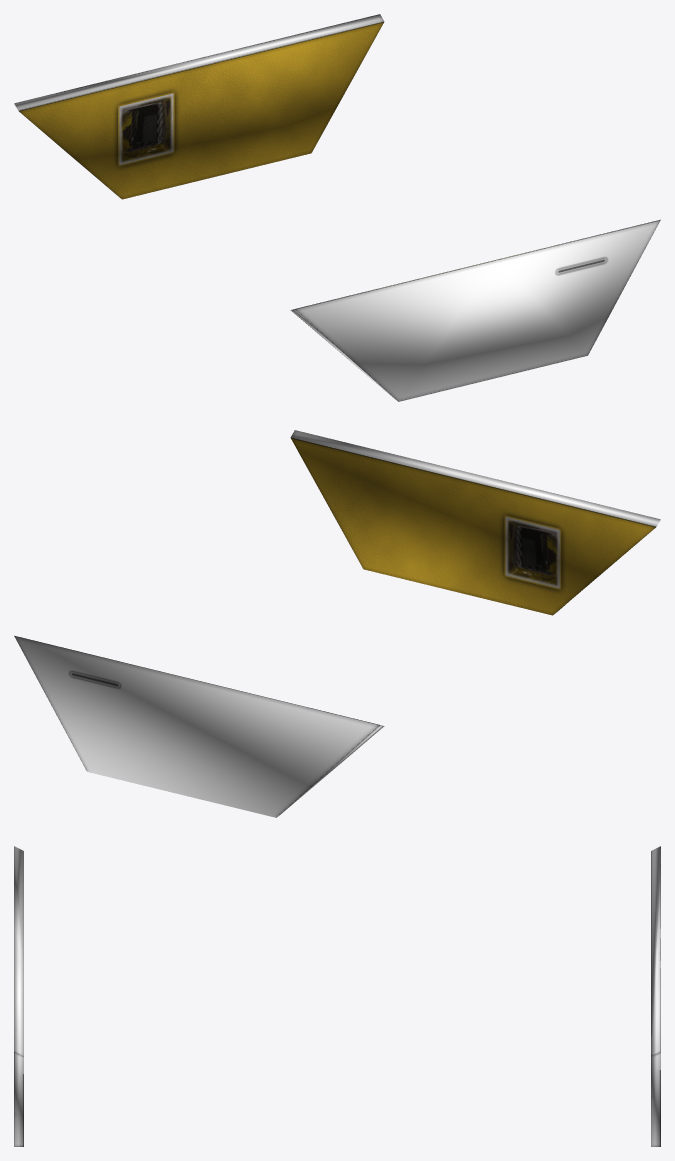
Rendered from lambo_doors.obj.
The picture shows the model from 3 angles, top to bottom: view 1: azimuth 30°, elevation 25°; view 2: azimuth 150°, elevation 25°; view 3: azimuth 270°, elevation 25°; orthographic projection. The views are drawn at different scales.
Parts seen in each view (by area): view 1: Cube3_extract6; view 2: Cube3_extract6; view 3: Cube3_extract6.
Part boxes in pixels (x1=…): Cube3_extract6: x1=14, y1=14, x2=660, y2=401; Cube3_extract6: x1=14, y1=430, x2=660, y2=817; Cube3_extract6: x1=14, y1=846, x2=660, y2=1146.
Bounding box in the file's own units: 2.4 × 0.7408 × 3.19.
1 material, 1 textured.
